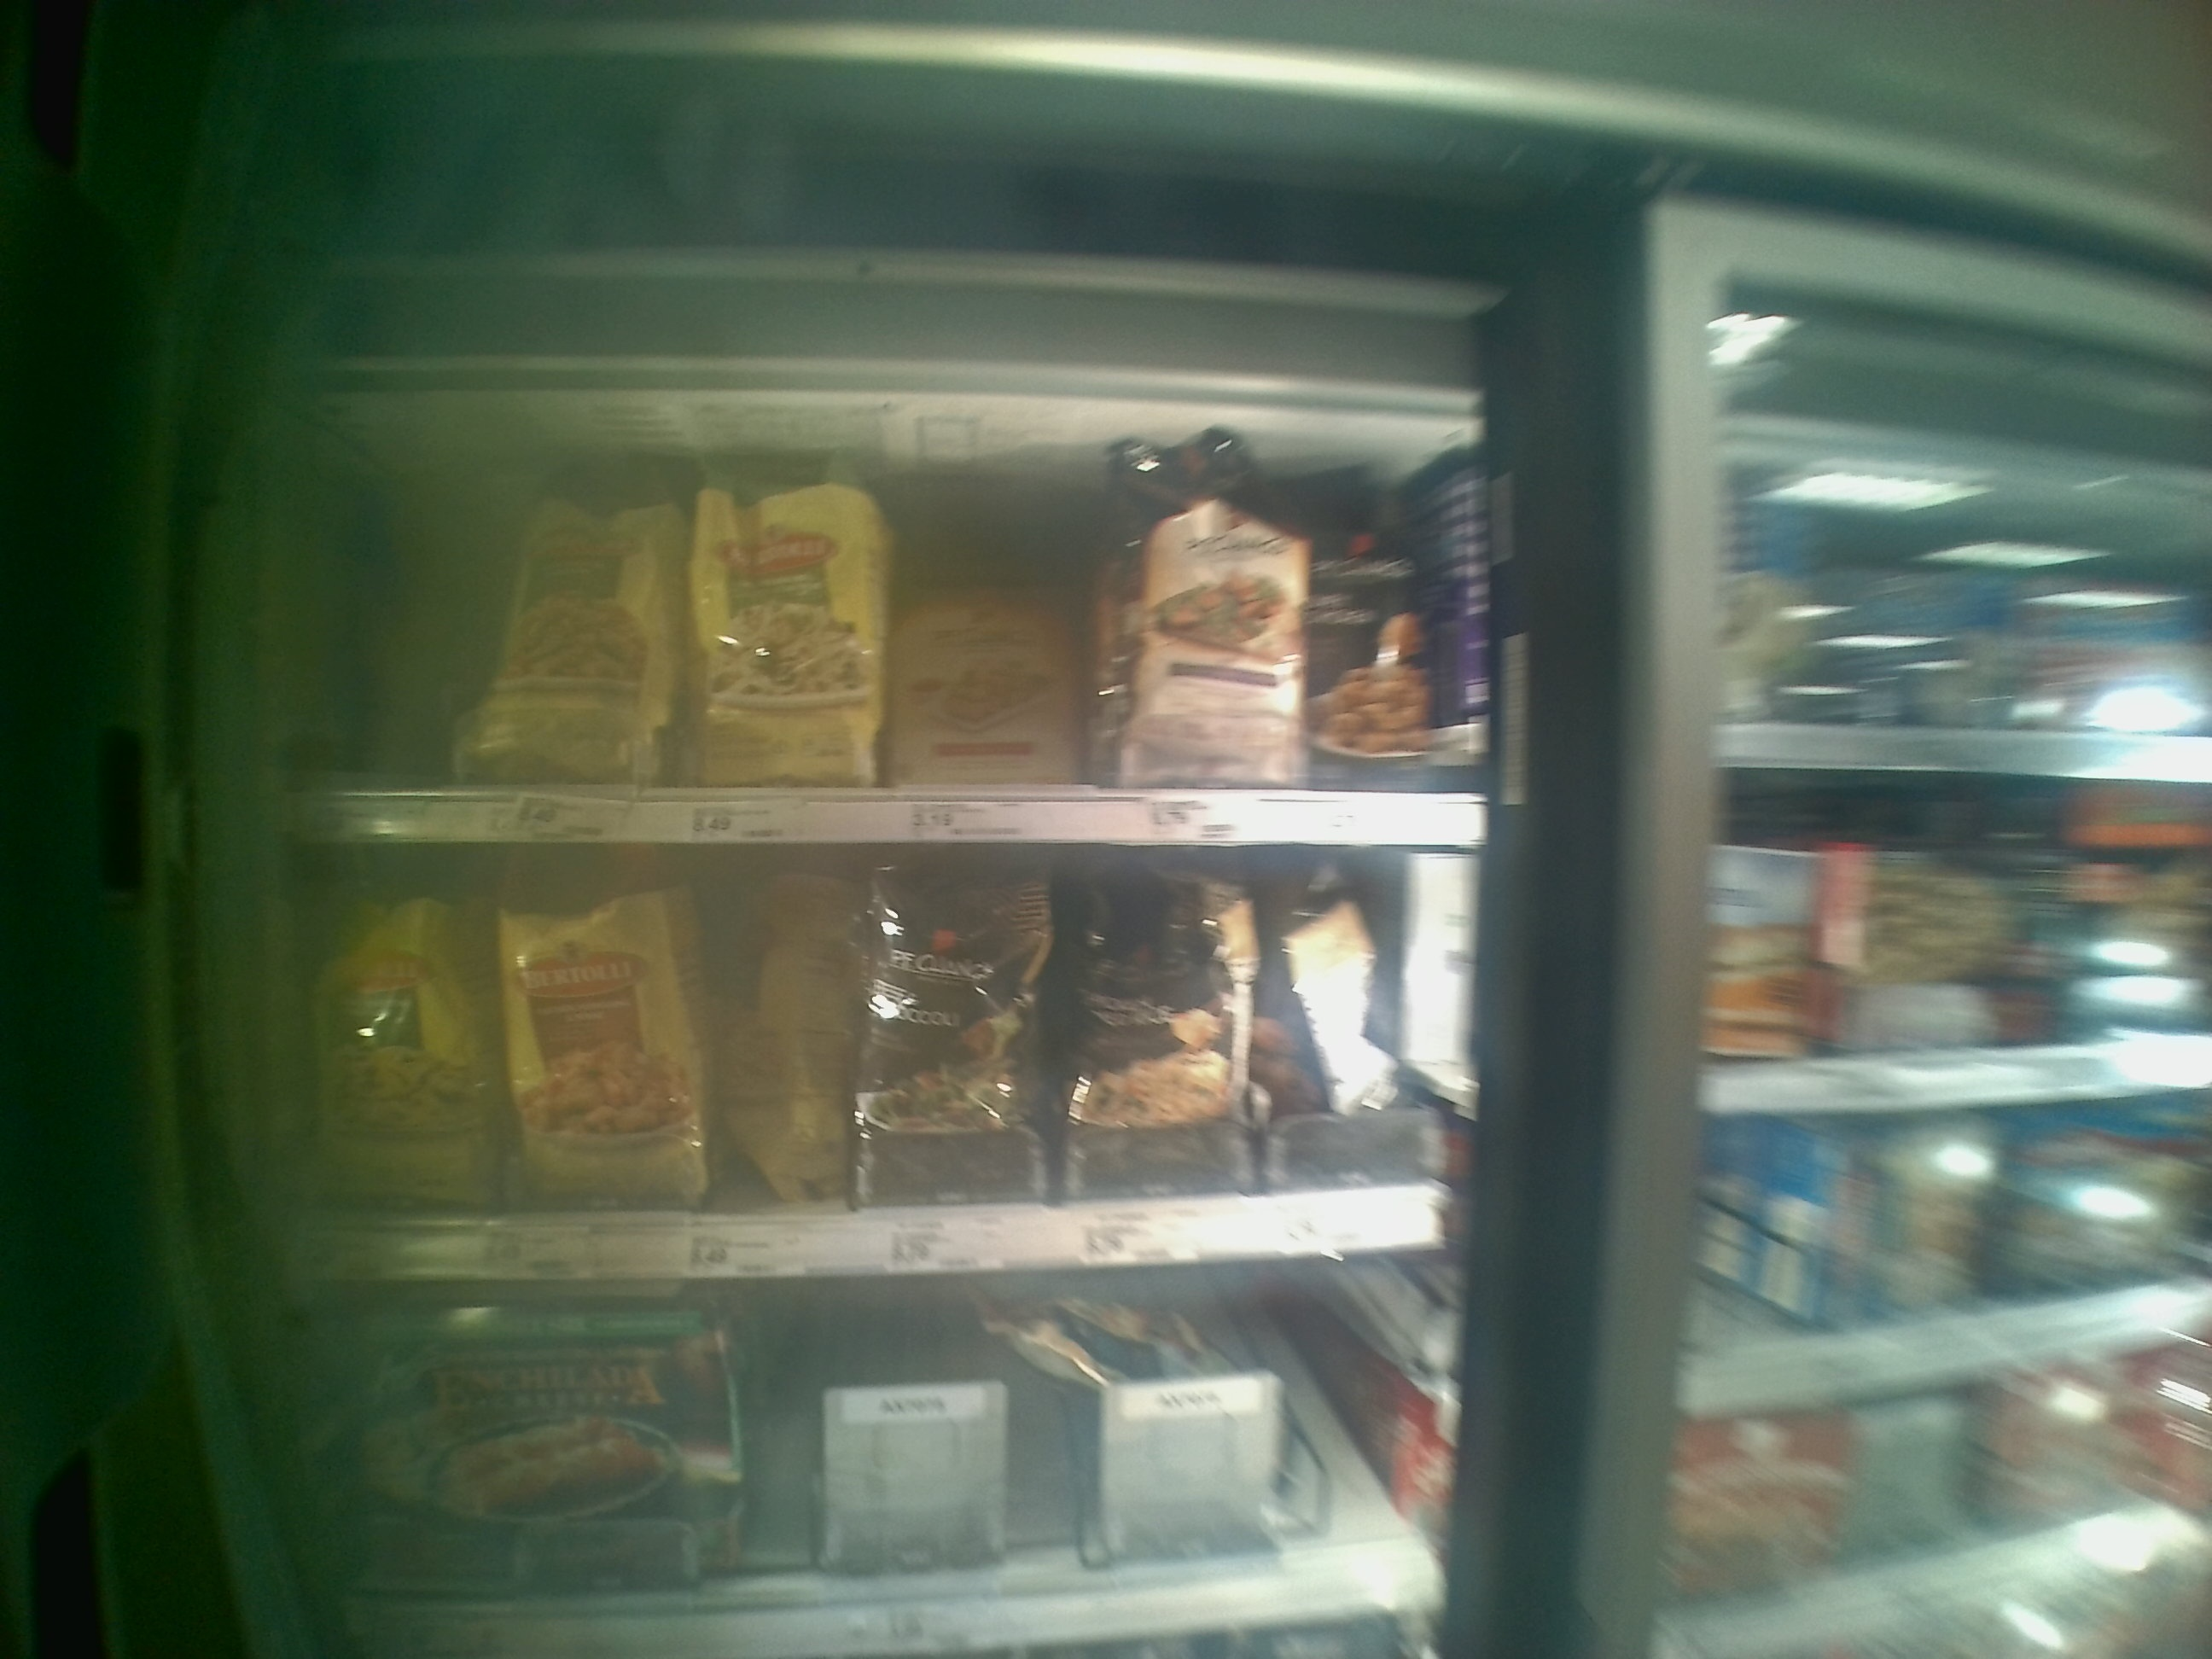frozen-food-shelf: (270, 430, 1456, 842), (282, 854, 1435, 1274)
